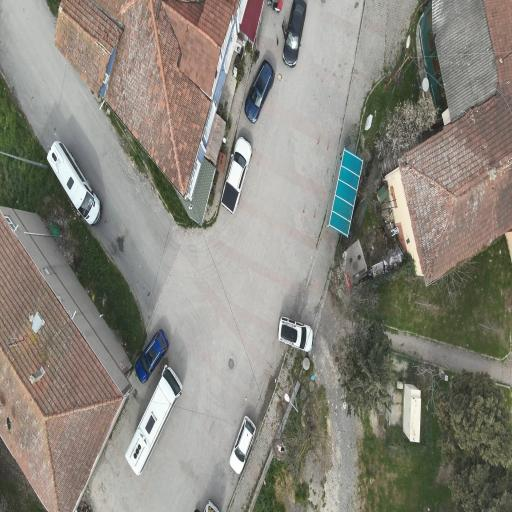car: (125, 365, 182, 475), (47, 141, 101, 224), (222, 137, 251, 212), (245, 60, 274, 122), (135, 329, 168, 382), (229, 416, 256, 474), (283, 0, 306, 66), (279, 316, 313, 351)
